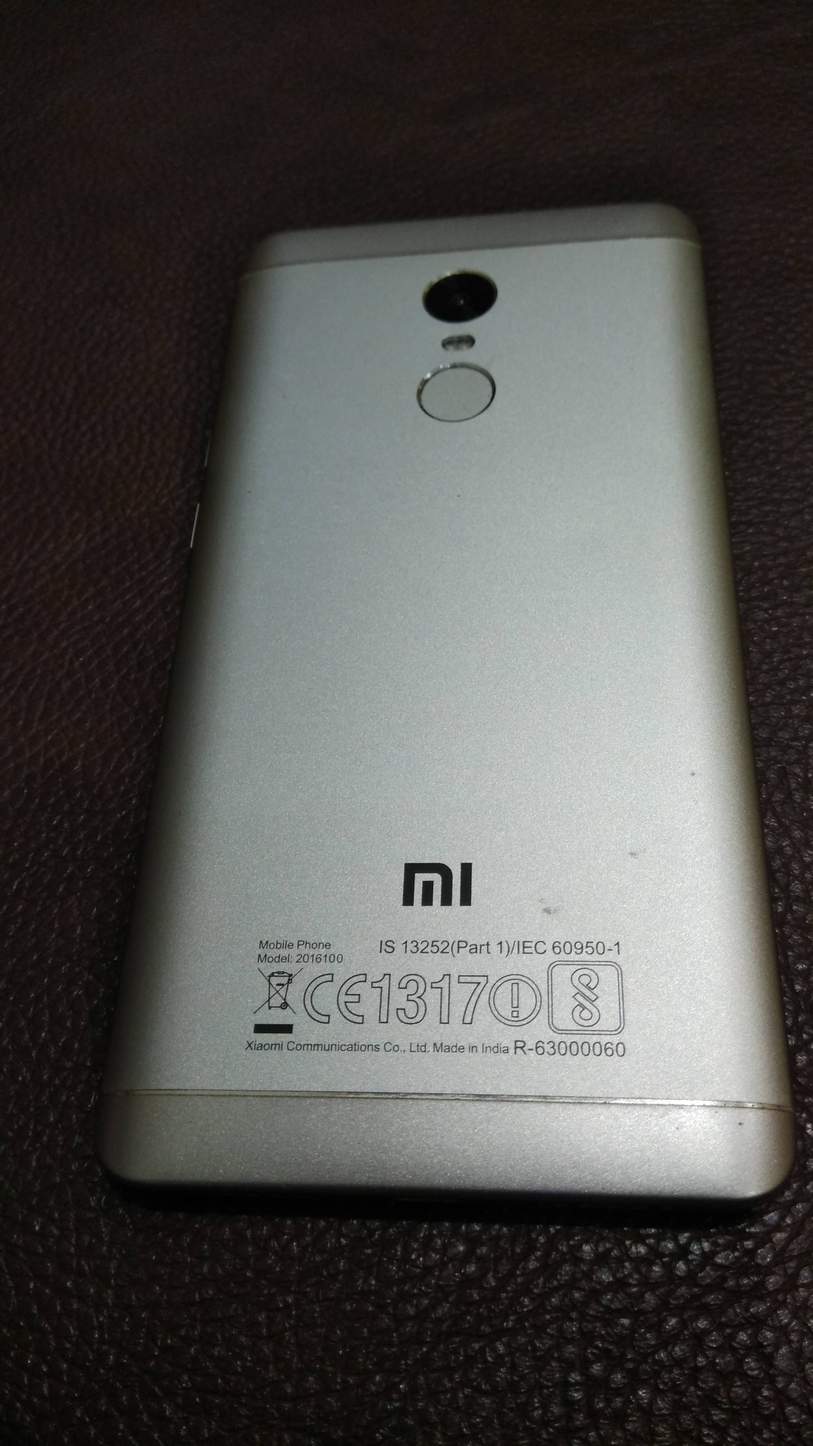Electronics: (44, 169, 794, 1263)
